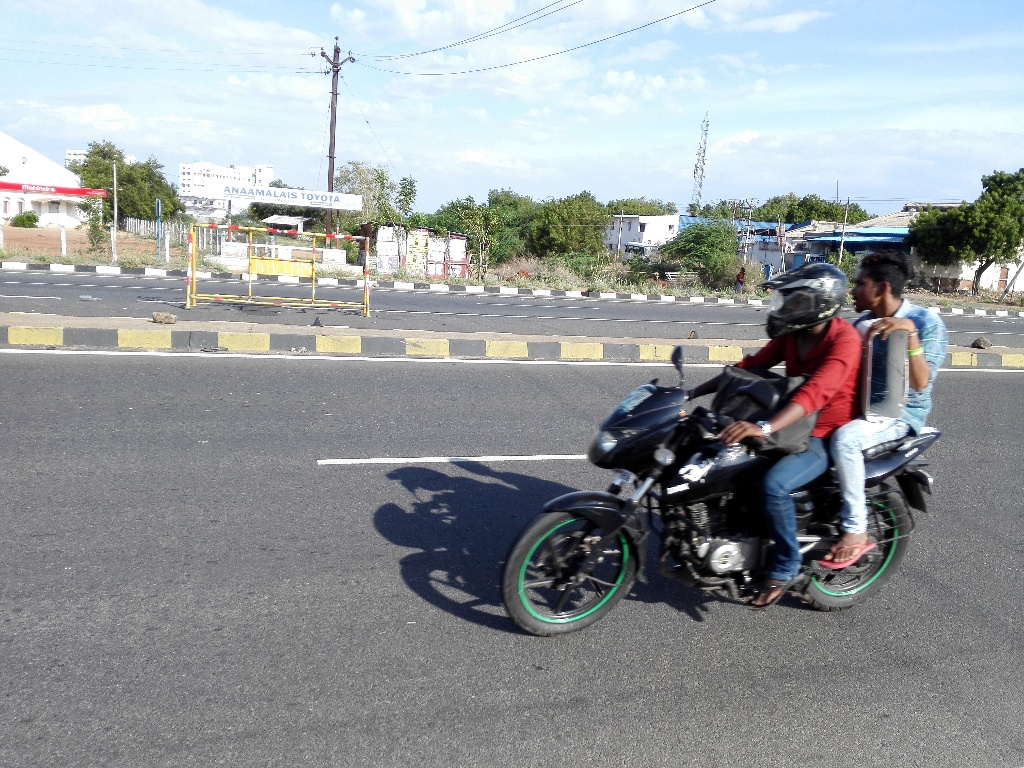biker: (478, 190, 982, 657)
helmet: (751, 252, 853, 362)
nohelmet: (851, 247, 921, 322)
